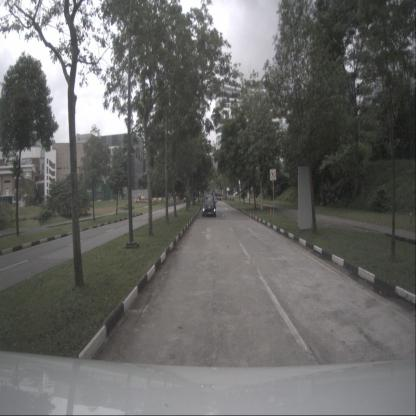vehicle-bus-rigid: (214, 189, 222, 199)
vehicle-car: (202, 196, 216, 218)
